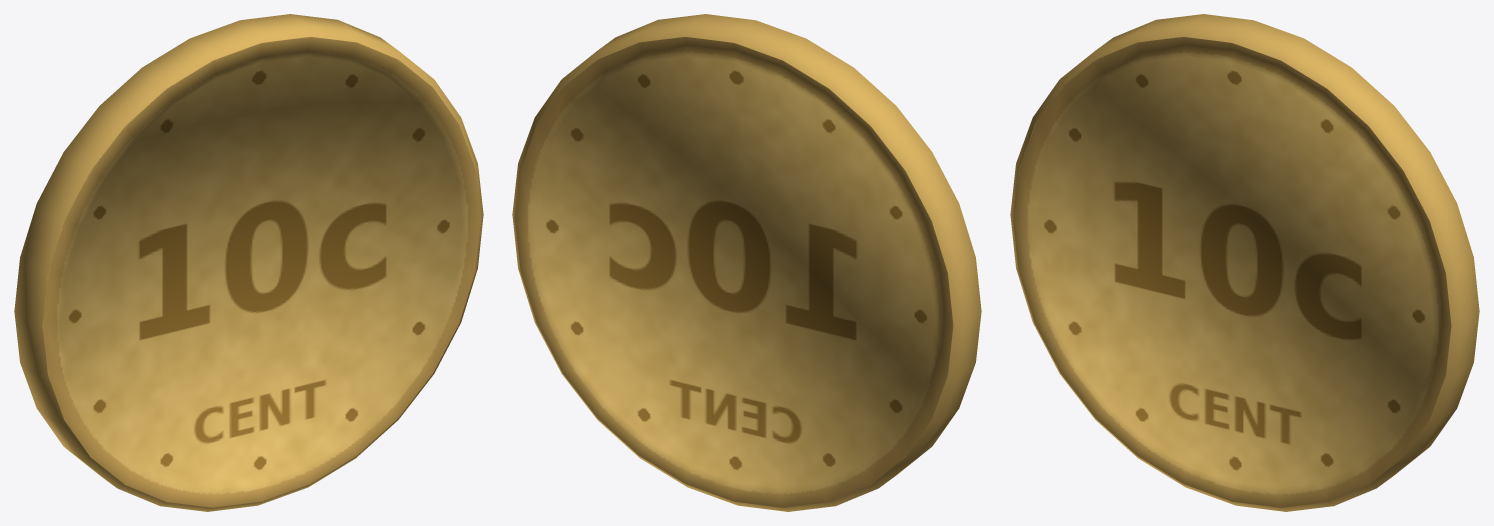
The model's file is Coin_10Cent.obj.
3 views of the same model, side by side, from view 1: azimuth 30°, elevation 25°; view 2: azimuth 150°, elevation 25°; view 3: azimuth 330°, elevation 25° (orthographic).
Size of the model in its own units: 0.0198 by 0.0198 by 0.00193.
2 materials, 1 textured.
